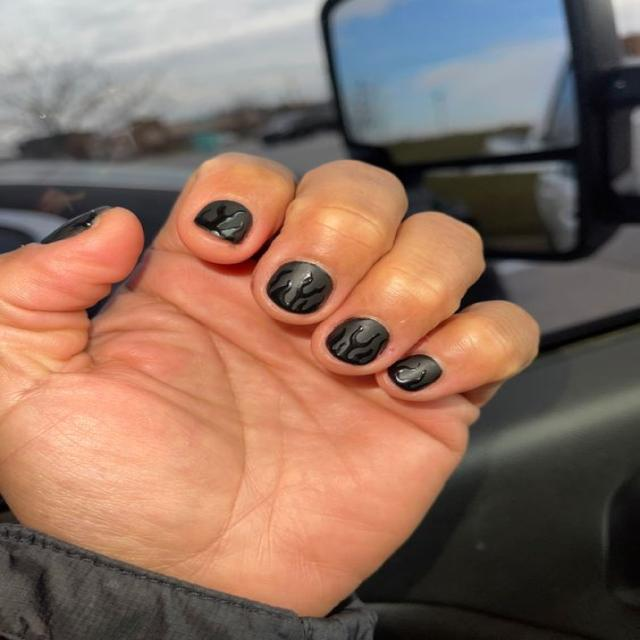Fingernail: (267, 260, 333, 315), (326, 315, 390, 366), (195, 200, 253, 244), (41, 207, 106, 243), (388, 354, 443, 391)
